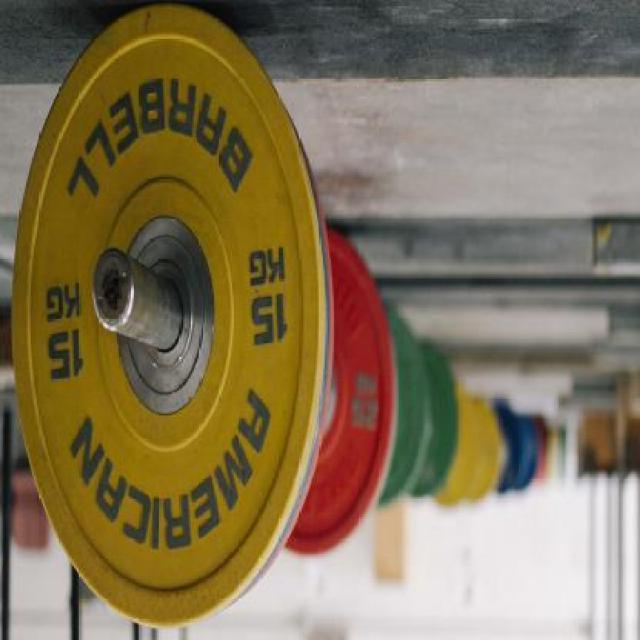Barbell: (89, 233, 140, 339)
